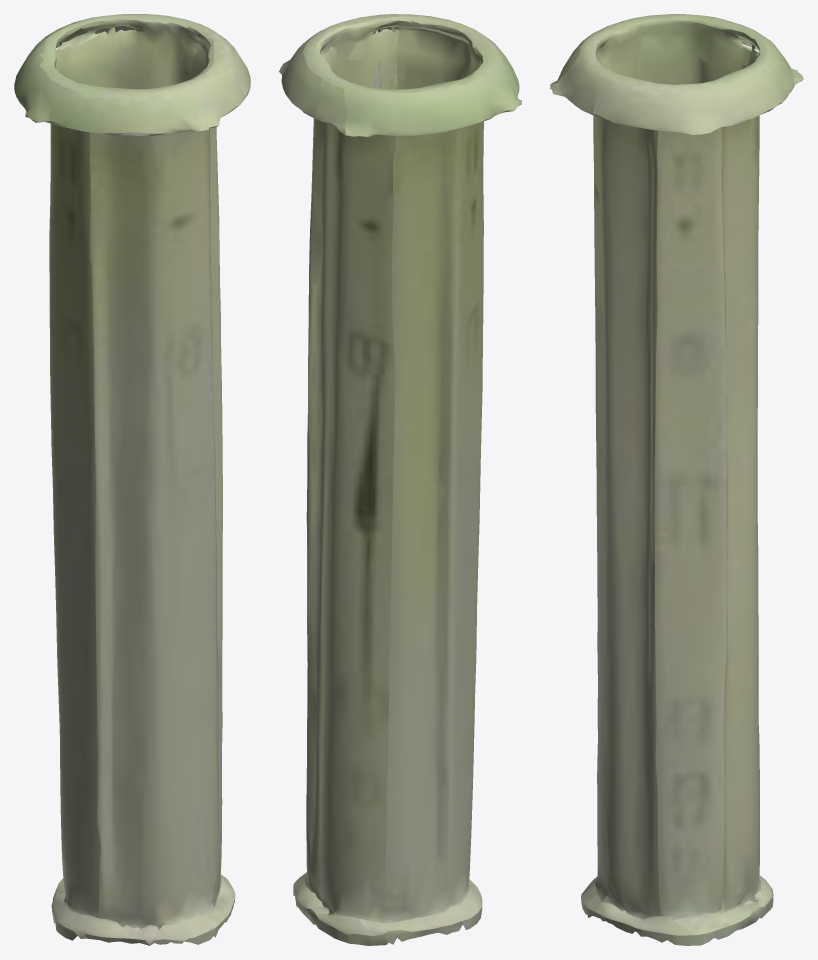
3 views of the same model, side by side, from view 1: azimuth 30°, elevation 25°; view 2: azimuth 150°, elevation 25°; view 3: azimuth 270°, elevation 25° (orthographic).
Visible parts, largest first — view 1: world; view 2: world; view 3: world.
Part boxes in pixels (x1=…): world: x1=14, y1=14, x2=250, y2=945; world: x1=279, y1=14, x2=521, y2=945; world: x1=550, y1=14, x2=803, y2=945.
Size of the model in its own units: 0.1506 by 0.5633 by 0.1517.
Materials: 1 (1 with a texture image).
